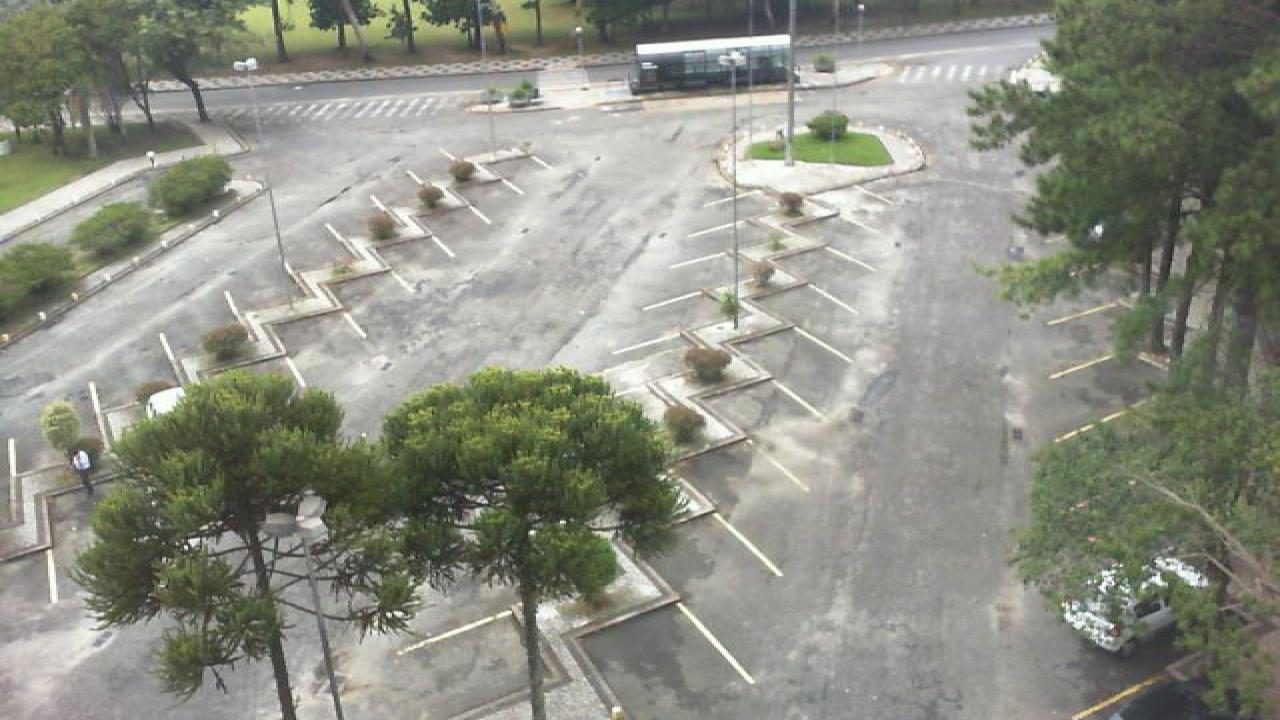Car: (1046, 551, 1224, 656)
